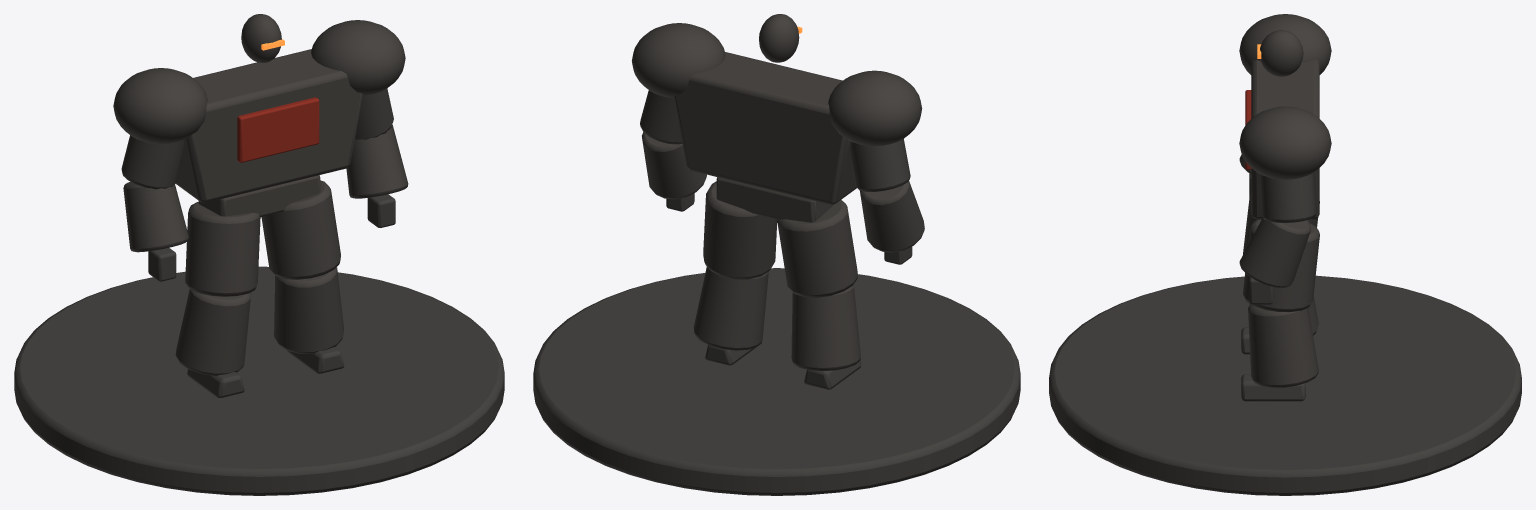
File: foundries_frame_titan.glb
3 renders of one model, left to right at view 1: azimuth 30°, elevation 25°; view 2: azimuth 150°, elevation 25°; view 3: azimuth 270°, elevation 25°, orthographic. The views are drawn at different scales.
Visible parts, largest first — view 1: standin_base.007, t.007, standin_thigh_R.007, standin_pauldron_R.007, standin_thigh_L.007, standin_shin_R.007, standin_shin_L.007, standin_pauldron_L.007, tp.007, standin_forearm_R.007, standin_forearm_L.007, standin_arm_R.007 (+7 smaller); view 2: standin_base.007, t.007, standin_thigh_R.007, standin_pauldron_R.007, standin_thigh_L.007, standin_shin_R.007, standin_pauldron_L.007, standin_shin_L.007, standin_forearm_R.007, standin_pelvis.007, standin_forearm_L.007, standin_arm_R.007 (+4 smaller); view 3: standin_base.007, standin_pauldron_L.007, standin_shin_L.007, t.007, standin_forearm_L.007, standin_pauldron_R.007, standin_arm_L.007, standin_thigh_L.007, h.007, standin_foot_L.007, standin_hand_L.007.
Part boxes in pixels (<box>): standin_base.007: <box>14,266,504,495</box>; t.007: <box>175,49,362,202</box>; standin_thigh_R.007: <box>185,202,260,296</box>; standin_pauldron_R.007: <box>113,68,207,144</box>; standin_thigh_L.007: <box>261,180,340,279</box>; standin_shin_R.007: <box>175,289,251,375</box>; standin_shin_L.007: <box>274,267,344,353</box>; standin_pauldron_L.007: <box>311,20,405,95</box>; tp.007: <box>237,97,319,162</box>; standin_forearm_R.007: <box>123,181,188,252</box>; standin_forearm_L.007: <box>346,124,408,198</box>; standin_arm_R.007: <box>121,135,184,189</box>; standin_base.007: <box>533,268,1020,495</box>; t.007: <box>674,52,856,204</box>; standin_thigh_R.007: <box>777,200,857,297</box>; standin_pauldron_R.007: <box>828,70,922,146</box>; standin_thigh_L.007: <box>703,181,777,279</box>; standin_shin_R.007: <box>791,285,861,370</box>; standin_pauldron_L.007: <box>632,23,725,98</box>; standin_shin_L.007: <box>693,266,768,350</box>; standin_forearm_R.007: <box>860,181,924,252</box>; standin_pelvis.007: <box>716,177,834,222</box>; standin_forearm_L.007: <box>642,132,706,199</box>; standin_arm_R.007: <box>850,139,910,191</box>; standin_base.007: <box>1049,275,1521,495</box>; standin_pauldron_L.007: <box>1239,106,1331,179</box>; standin_shin_L.007: <box>1248,304,1318,387</box>; t.007: <box>1251,60,1319,219</box>; standin_forearm_L.007: <box>1239,218,1310,287</box>; standin_pauldron_R.007: <box>1239,14,1331,74</box>; standin_arm_L.007: <box>1260,172,1315,222</box>; standin_thigh_L.007: <box>1243,219,1319,312</box>; h.007: <box>1260,30,1303,76</box>; standin_foot_L.007: <box>1241,374,1305,401</box>; standin_hand_L.007: <box>1249,276,1273,304</box>.
Size of the model in its own units: 50 by 42.8 by 50.
